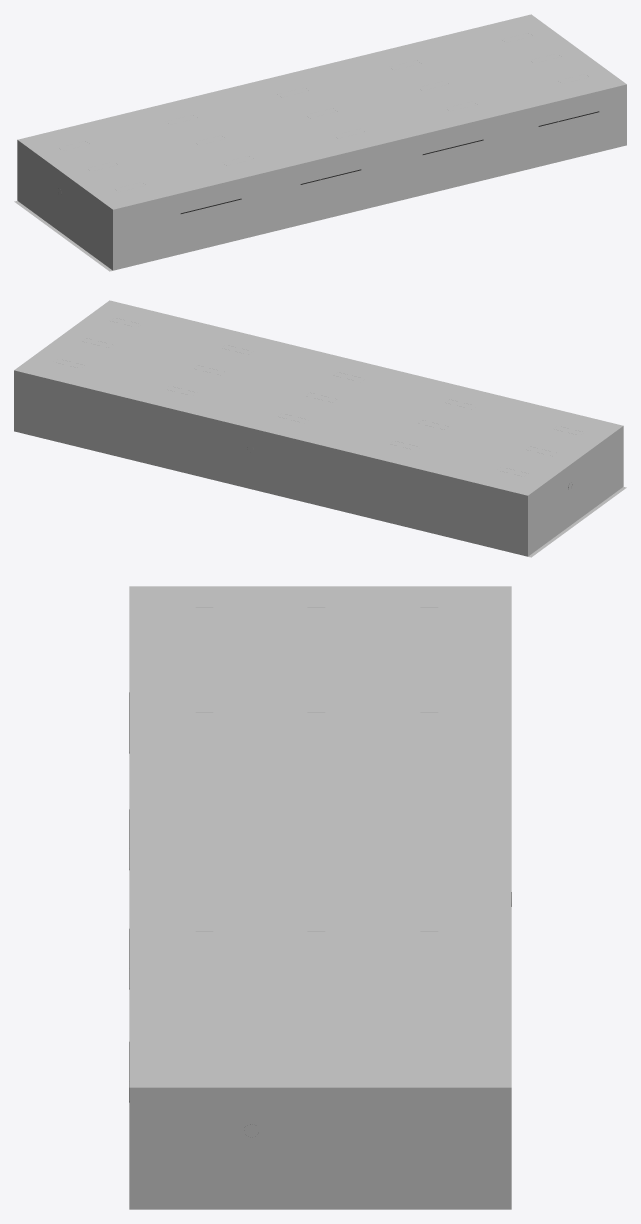
File: proto_map_v3_4.fbx
The picture shows the model from 3 angles, top to bottom: view 1: azimuth 30°, elevation 25°; view 2: azimuth 150°, elevation 25°; view 3: azimuth 270°, elevation 25°; orthographic projection. The views are drawn at different scales.
Parts seen in each view (by area): view 1: ceiling, stage001, plane001; view 2: ceiling, stage001, plane001; view 3: ceiling, stage001.
Boxes of the visible parts, left/top/right/bottom form: ceiling: left=18, top=14, right=626, bottom=209; stage001: left=17, top=84, right=626, bottom=270; plane001: left=14, top=201, right=112, bottom=271; ceiling: left=14, top=300, right=622, bottom=495; stage001: left=14, top=370, right=623, bottom=556; plane001: left=528, top=487, right=626, bottom=557; ceiling: left=129, top=586, right=511, bottom=1087; stage001: left=129, top=1087, right=511, bottom=1209.
Bounding box in the file's own units: 1508 × 170 × 483.
